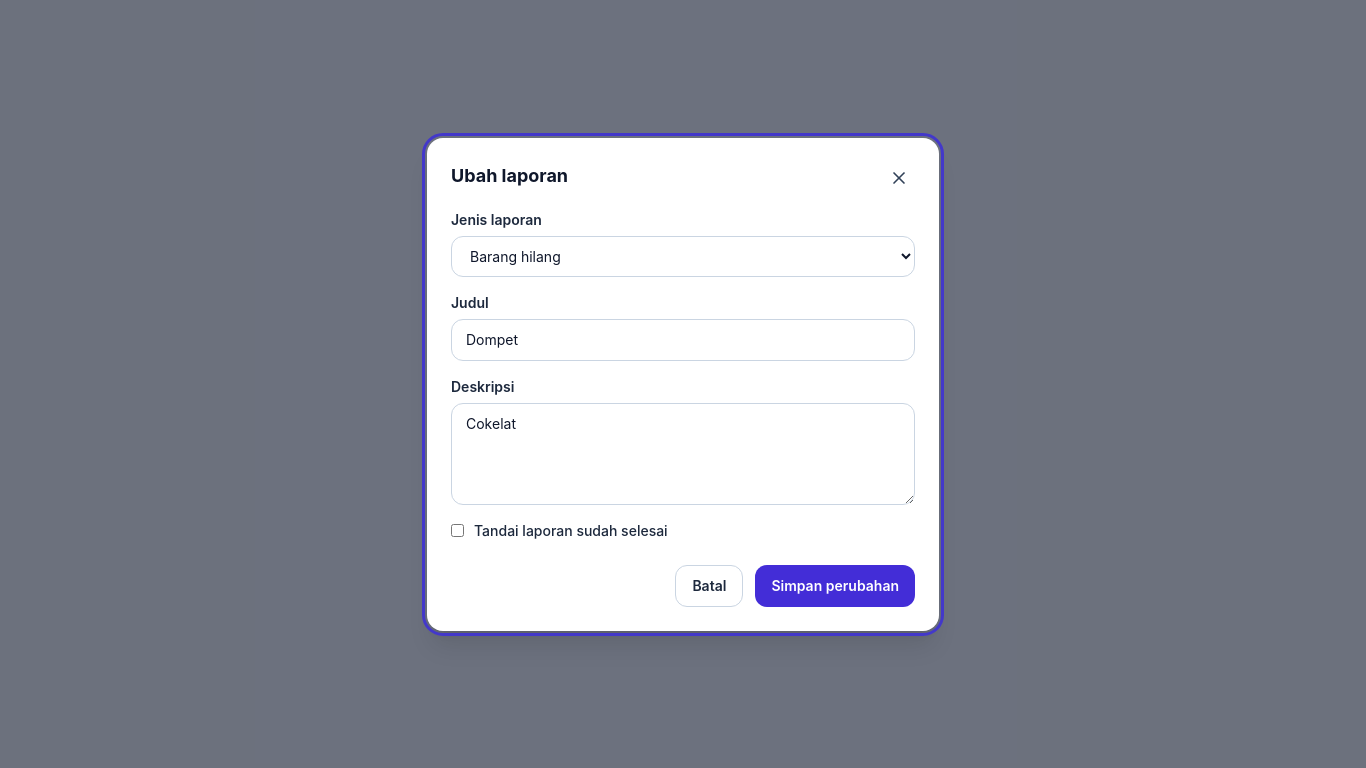
Test case: ChangeModal › menampilkan nilai awal dan memvalidasi
Expected: the checkbox labelled "Tandai laporan sudah selesai" is not checked, left=451, top=524, right=464, bottom=537
Clear the field labelled "Judul": (683, 340) left=451, top=318, right=915, bottom=360
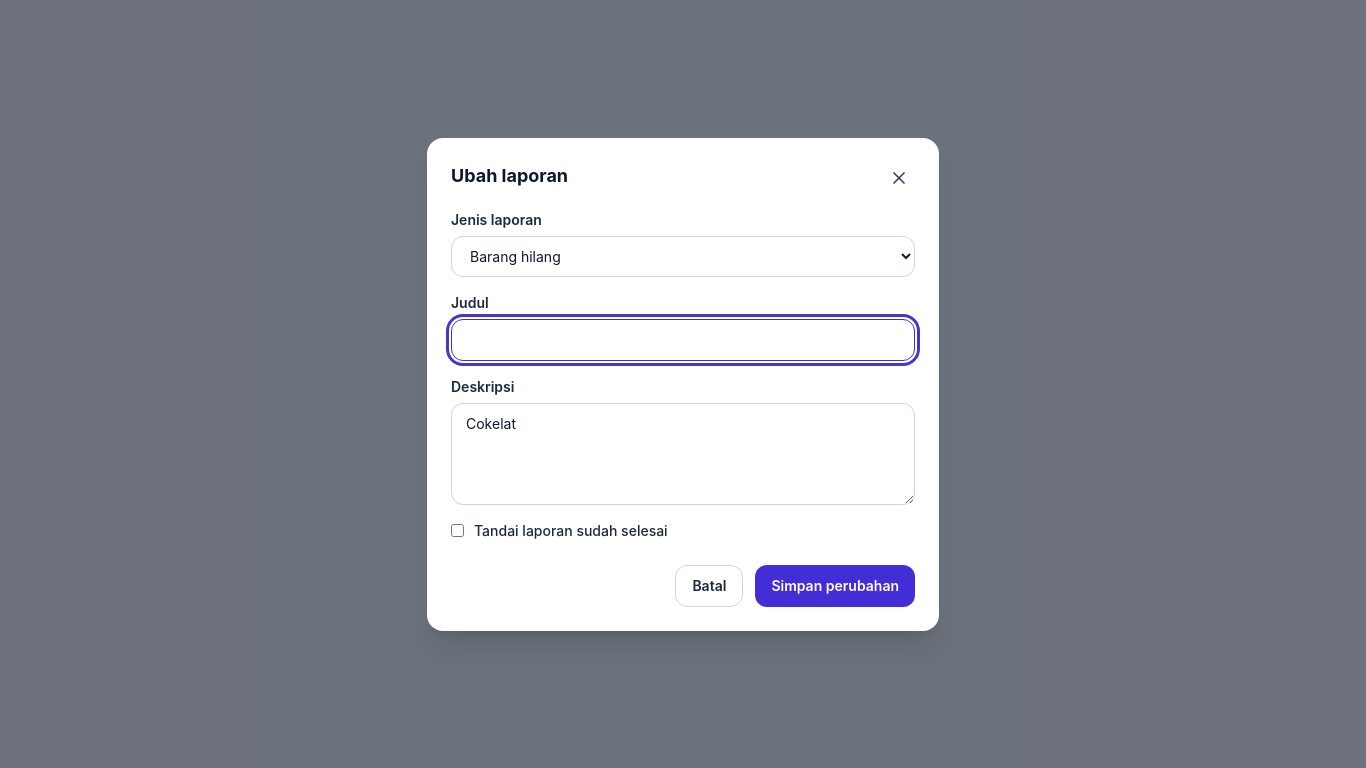
Clear the text box labelled "Deskripsi": (683, 454) left=451, top=402, right=915, bottom=504
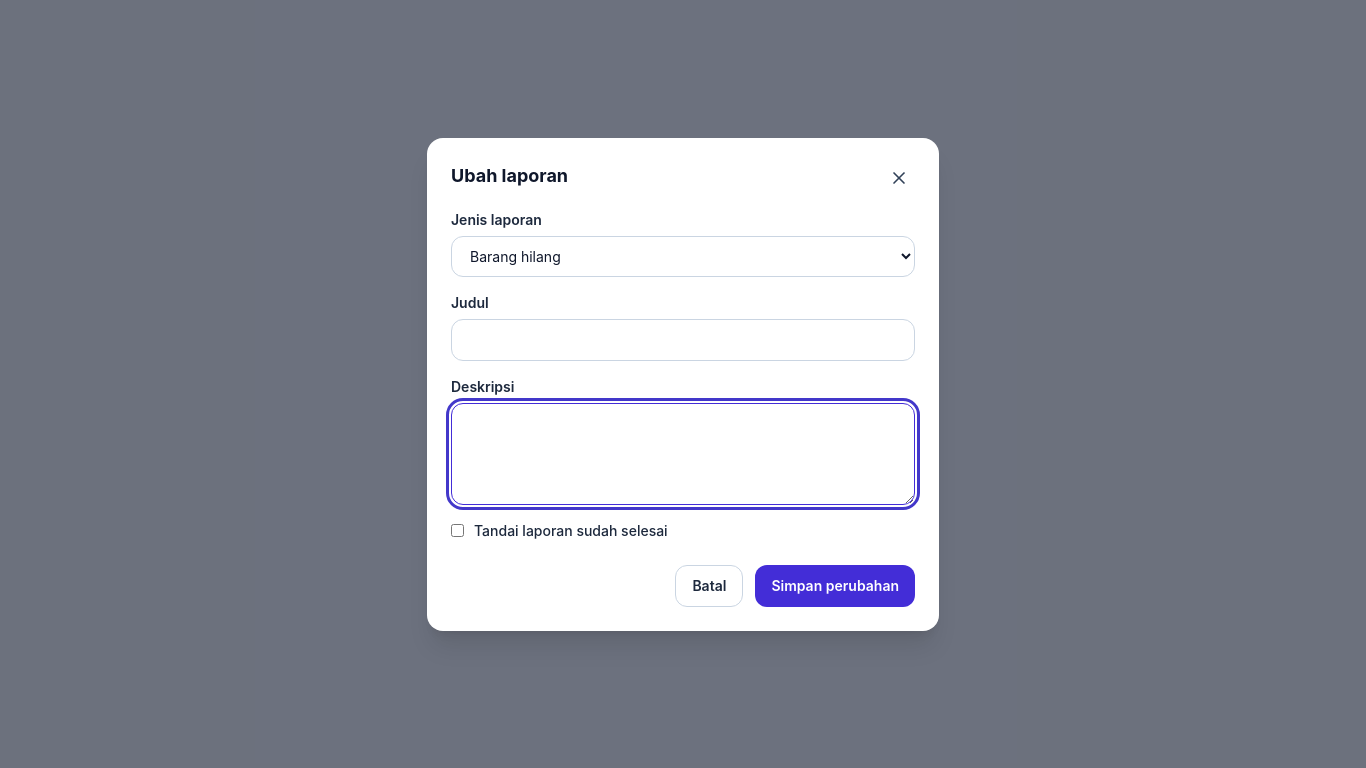
Click the button "Simpan perubahan": (835, 586) left=755, top=564, right=915, bottom=606
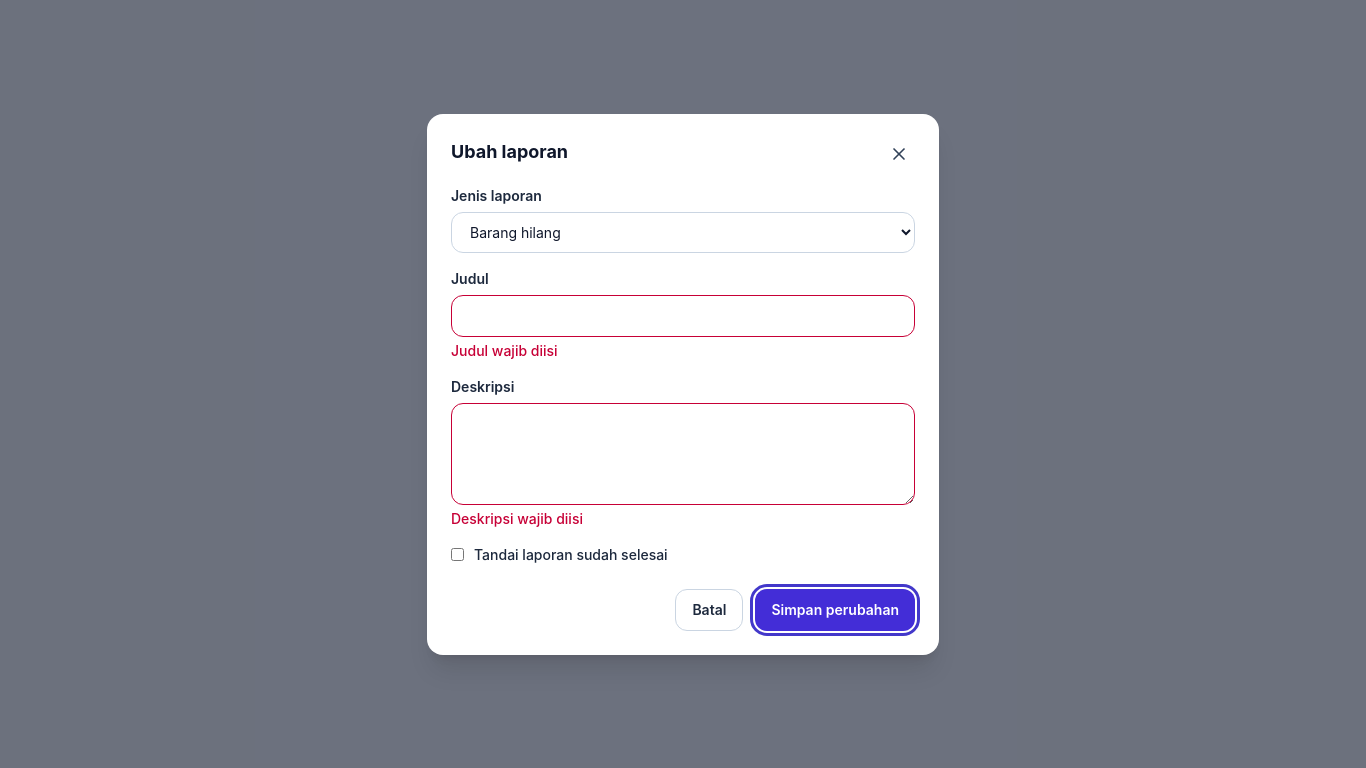
Now the text "Judul wajib diisi" is shown, box left=451, top=342, right=558, bottom=358
Now the text "Deskripsi wajib diisi" is shown, box left=451, top=510, right=583, bottom=526
